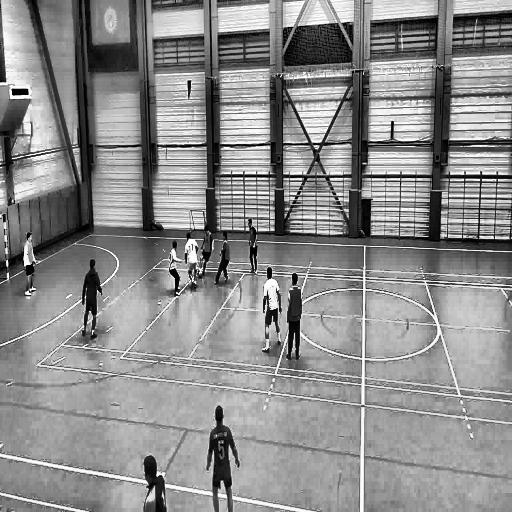ball: (198, 268, 204, 278)
player: (206, 404, 239, 512), (80, 258, 104, 340), (261, 267, 283, 354), (286, 272, 302, 361), (142, 453, 166, 512), (22, 232, 40, 302), (215, 230, 231, 286), (168, 240, 182, 297), (184, 230, 197, 290), (247, 217, 260, 275), (201, 224, 214, 268)
